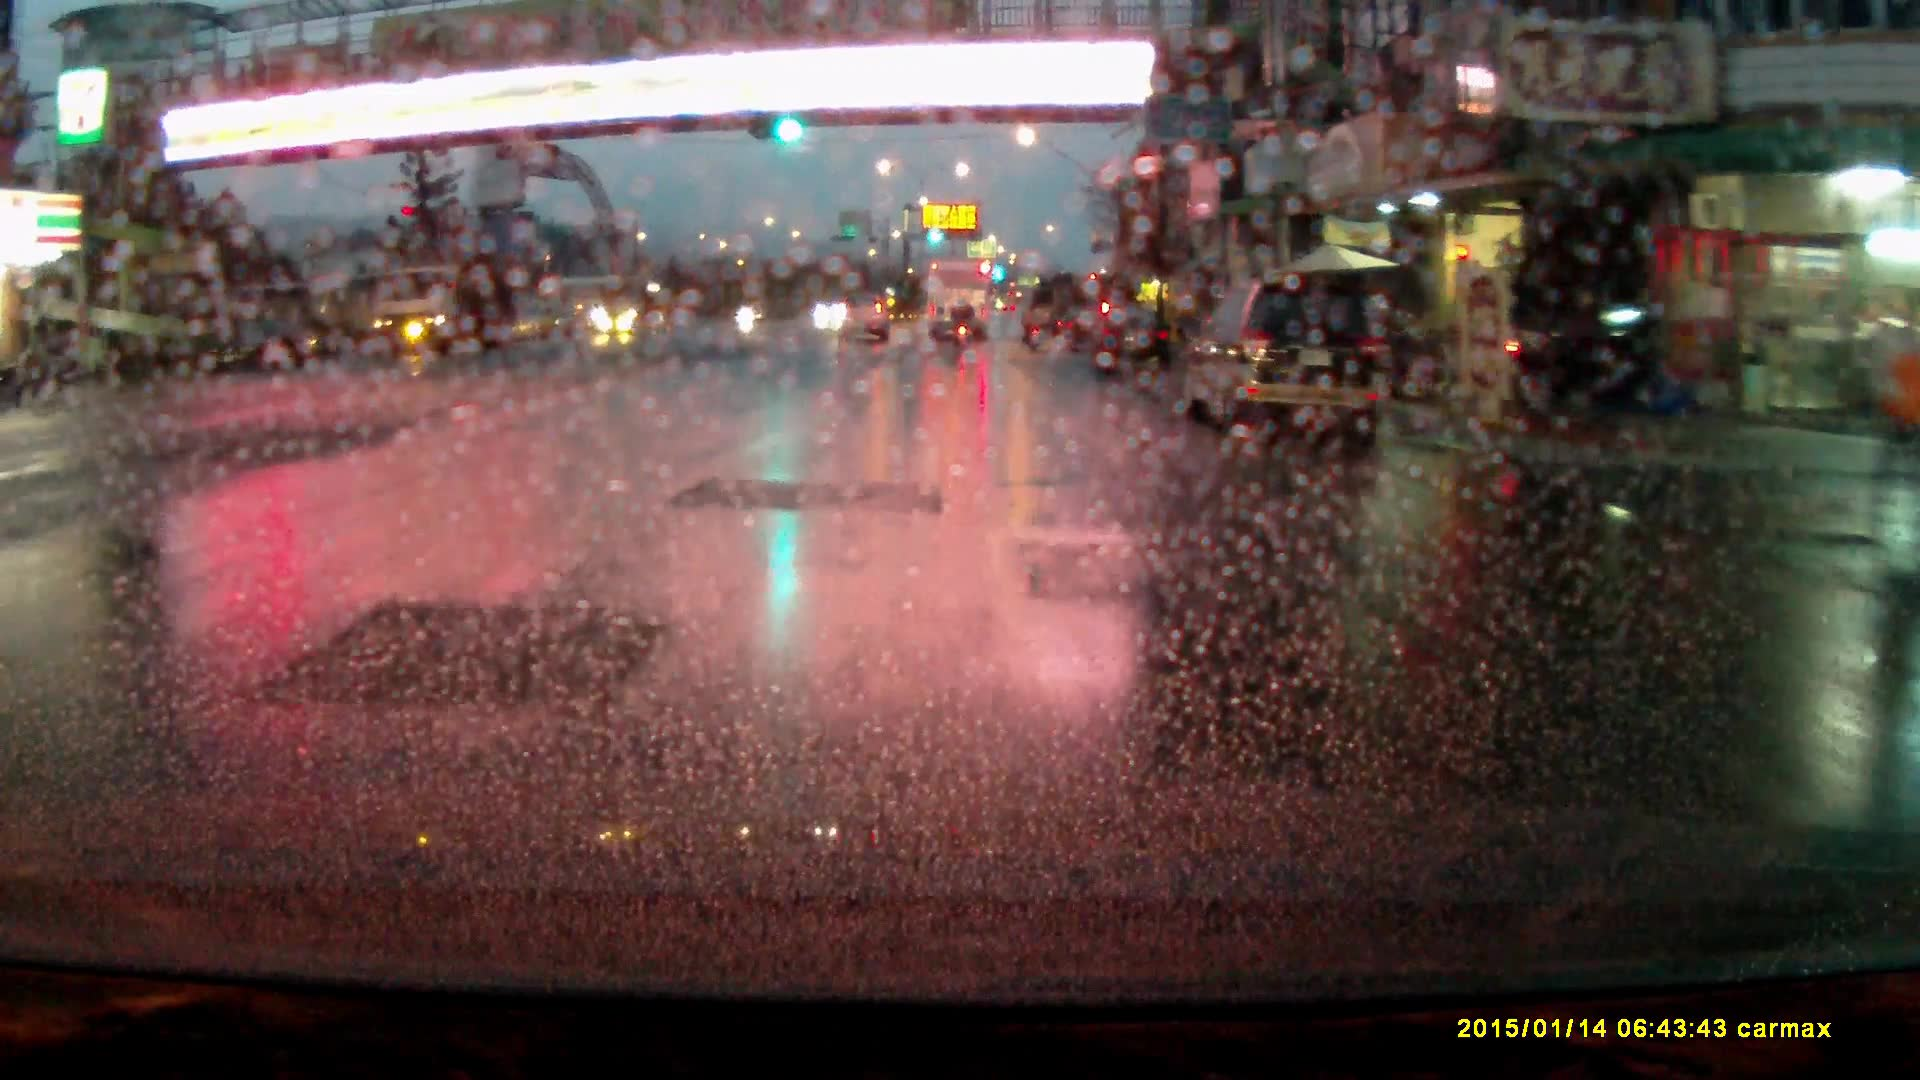rider: (950, 292, 976, 352)
vehicle: (1182, 277, 1391, 436), (1519, 290, 1653, 409), (365, 260, 509, 357), (926, 258, 993, 337), (1093, 308, 1174, 370), (597, 282, 675, 340), (837, 294, 895, 343), (1062, 304, 1108, 349)
